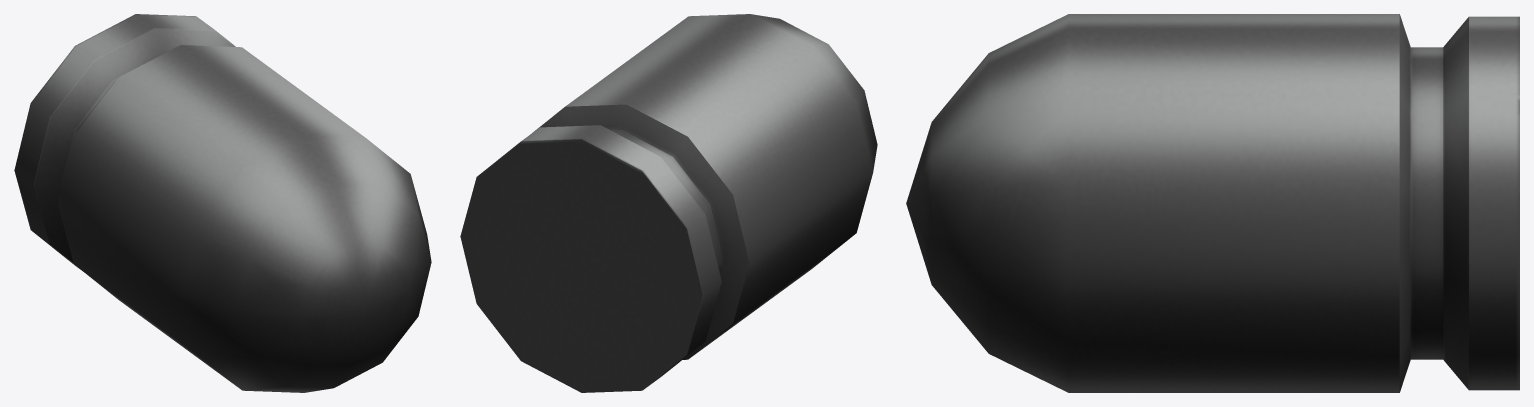
File: boss_first-blood_bullet.fbx
3 renders of one model, left to right at view 1: azimuth 30°, elevation 25°; view 2: azimuth 150°, elevation 25°; view 3: azimuth 270°, elevation 25°, orthographic. The views are drawn at different scales.
Parts seen in each view (by area): view 1: Cylinder.042; view 2: Cylinder.042; view 3: Cylinder.042.
Boxes of the visible parts, left/top/right/bottom form: Cylinder.042: left=14, top=14, right=431, bottom=392; Cylinder.042: left=460, top=14, right=877, bottom=392; Cylinder.042: left=906, top=14, right=1519, bottom=392.
Size of the model in its own units: 34.77 by 34.77 by 56.09.
